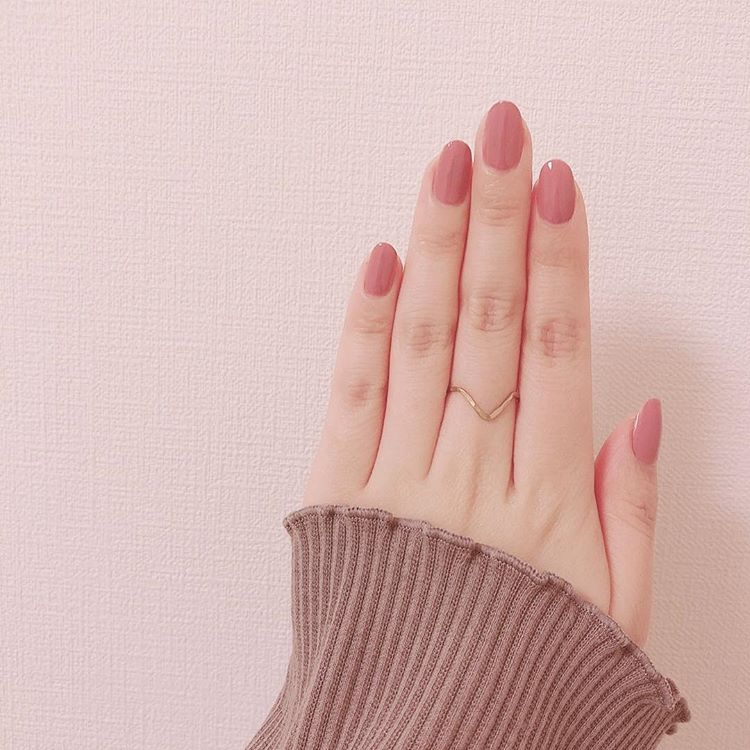nails: (528, 151, 588, 234), (476, 95, 531, 177), (424, 136, 480, 208), (351, 235, 403, 299), (628, 392, 666, 469)
